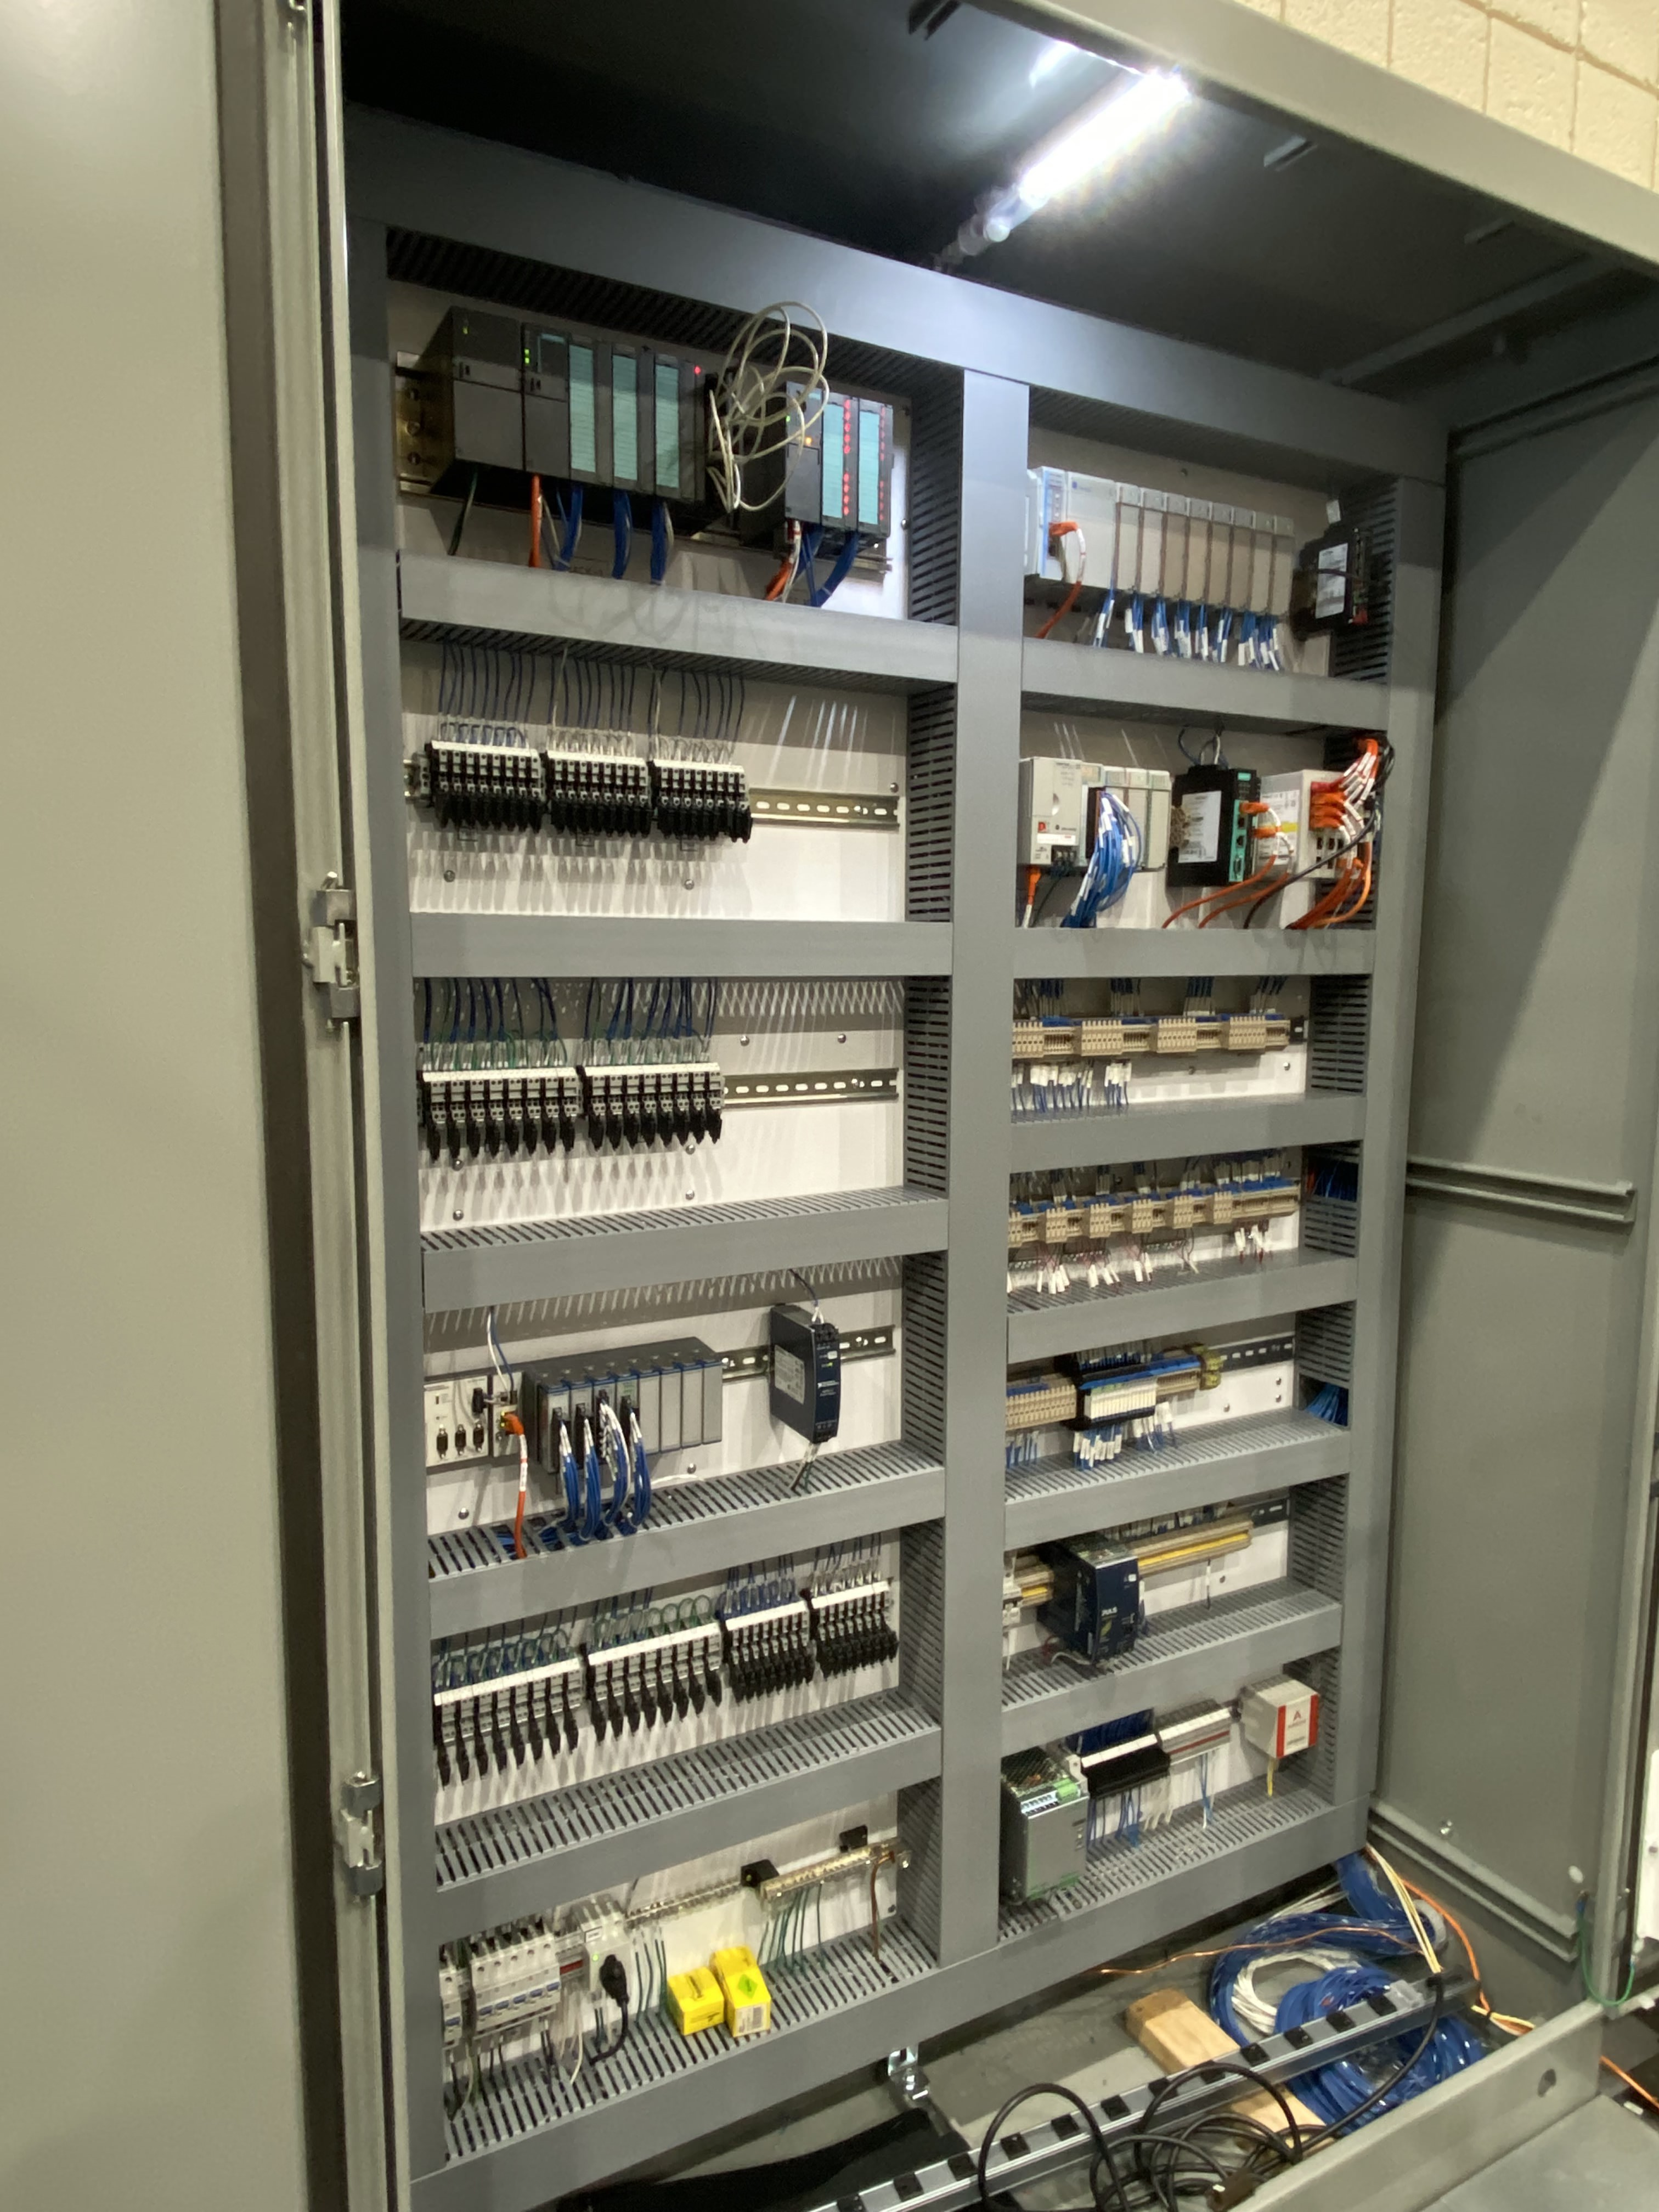AllenBradley: (1025, 751, 1086, 873)
Siemens: (516, 315, 575, 486)
